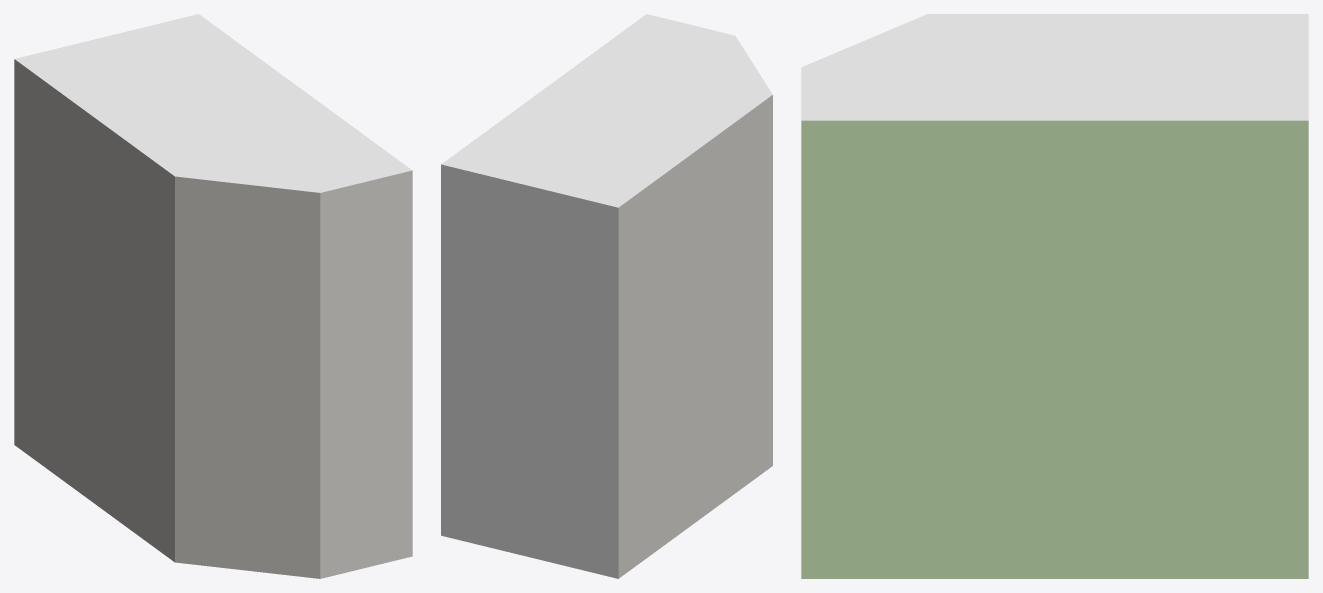
The model's file is Cave_Edge_Straight_Mid_1x1.glb.
3 renders of one model, left to right at view 1: azimuth 30°, elevation 25°; view 2: azimuth 150°, elevation 25°; view 3: azimuth 270°, elevation 25°, orthographic. The views are drawn at different scales.
Visible parts, largest first — view 1: Cave_Edge_Straight_Mid_1x1; view 2: Cave_Edge_Straight_Mid_1x1; view 3: Cave_Edge_Straight_Mid_1x1.
Boxes of the visible parts, x1,y1,x2,y2 form: Cave_Edge_Straight_Mid_1x1: (14,14,412,578); Cave_Edge_Straight_Mid_1x1: (441,14,772,578); Cave_Edge_Straight_Mid_1x1: (801,14,1308,578).
Bounding box in the file's own units: 50 × 100 × 100.
